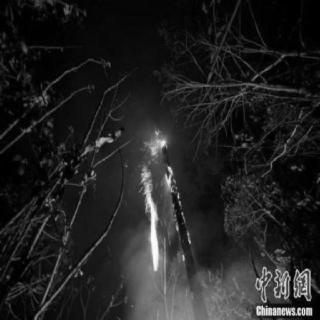Fire: (138, 132, 194, 268)
